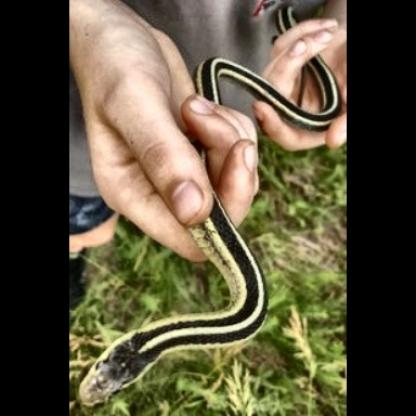Snake: (75, 314, 264, 408), (187, 35, 347, 132), (187, 212, 276, 313)
